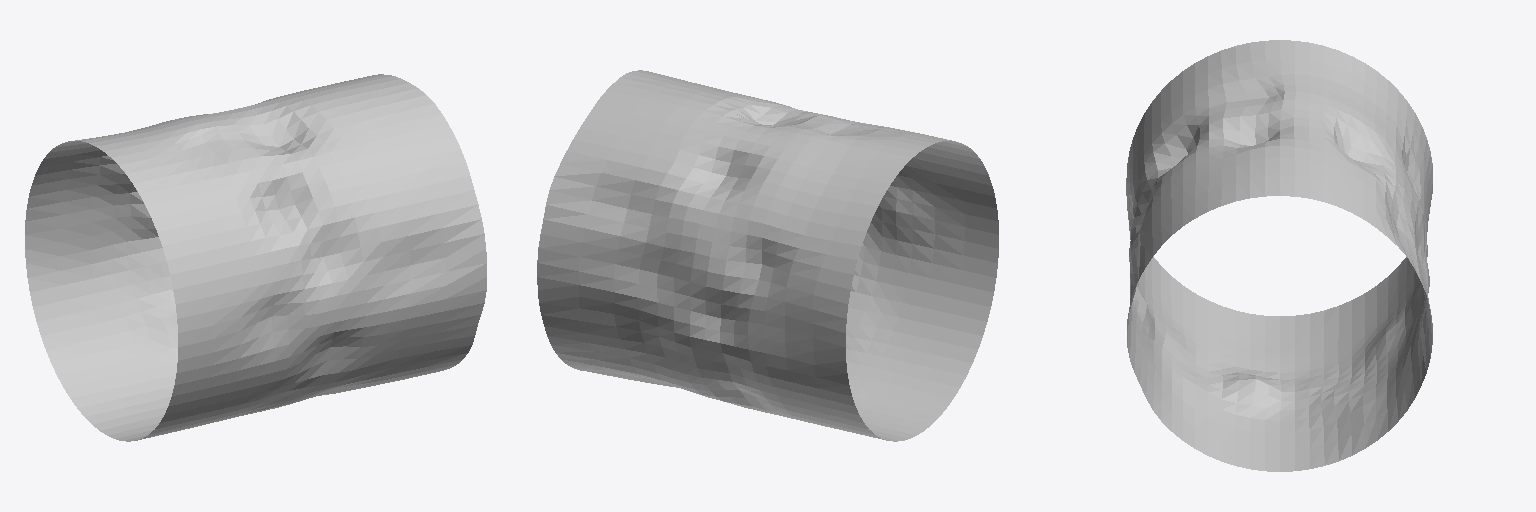
File: ceu.obj
3 renders of one model, left to right at view 1: azimuth 30°, elevation 25°; view 2: azimuth 150°, elevation 25°; view 3: azimuth 270°, elevation 25°, orthographic.
Parts seen in each view (by area): view 1: Cilindro; view 2: Cilindro; view 3: Cilindro.
Boxes of the visible parts, box(x1,y1,x2,y2) form: Cilindro: box(25, 74, 486, 441); Cilindro: box(537, 70, 998, 441); Cilindro: box(1126, 40, 1432, 471).
Size of the model in its own units: 54.99 by 47.54 by 46.71.